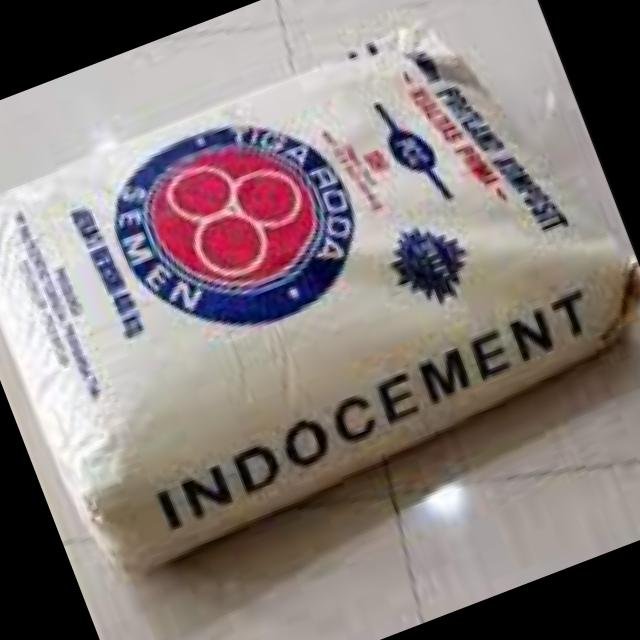KantongSemen: (0, 0, 640, 592)
